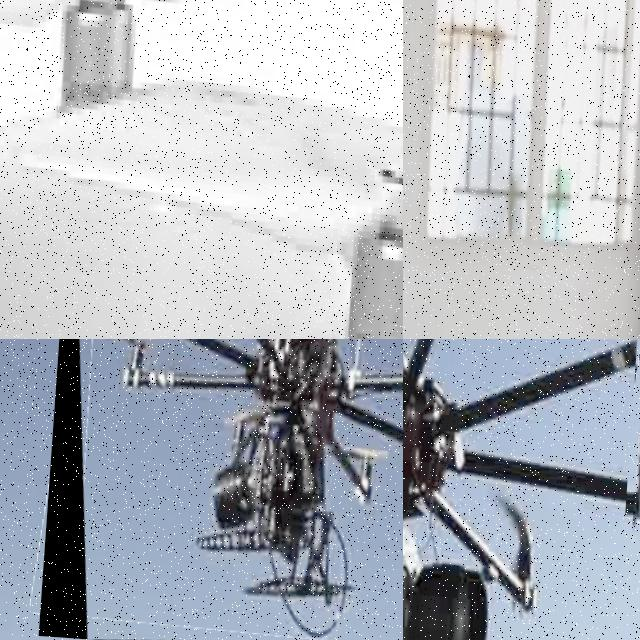drone: (0, 0, 403, 339), (38, 339, 403, 640), (403, 339, 640, 640)
